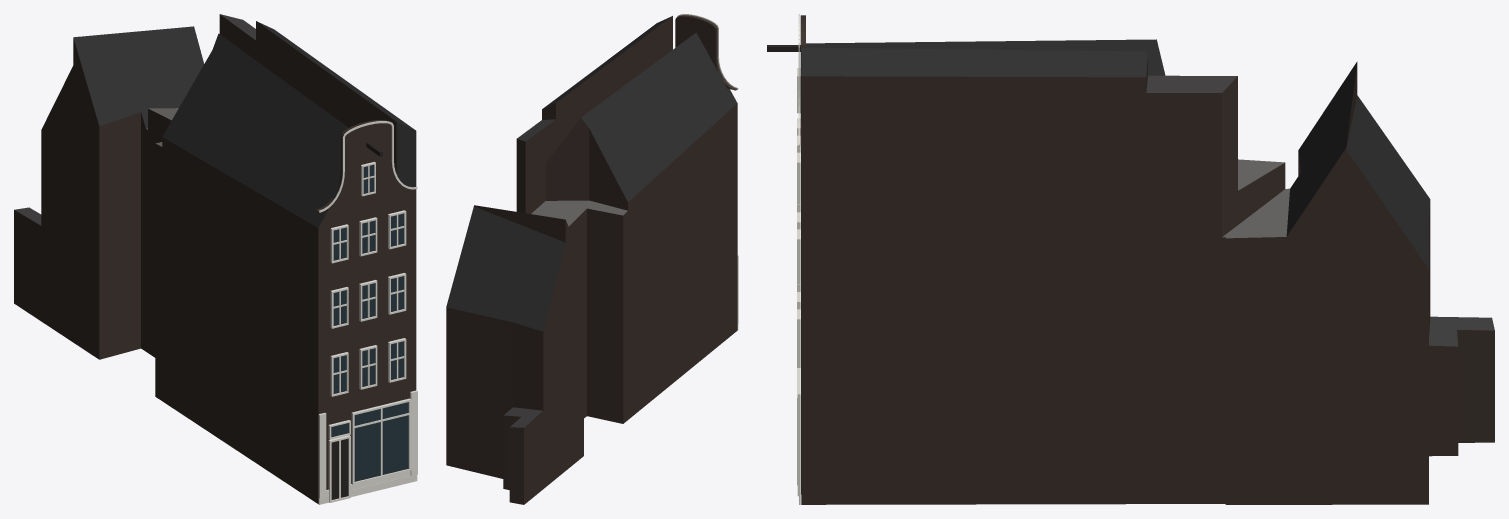
3 views of the same model, side by side, from view 1: azimuth 30°, elevation 25°; view 2: azimuth 150°, elevation 25°; view 3: azimuth 270°, elevation 25° (orthographic). The views are drawn at different scales.
Parts seen in each view (by area): view 1: spec-0363100012182584; view 2: spec-0363100012182584; view 3: spec-0363100012182584.
Boxes of the visible parts, <box> form: spec-0363100012182584: <box>14,14,417,504</box>; spec-0363100012182584: <box>446,14,738,504</box>; spec-0363100012182584: <box>767,14,1494,504</box>.
Bounding box in the file's own units: 5.52 × 16.13 × 23.47.
